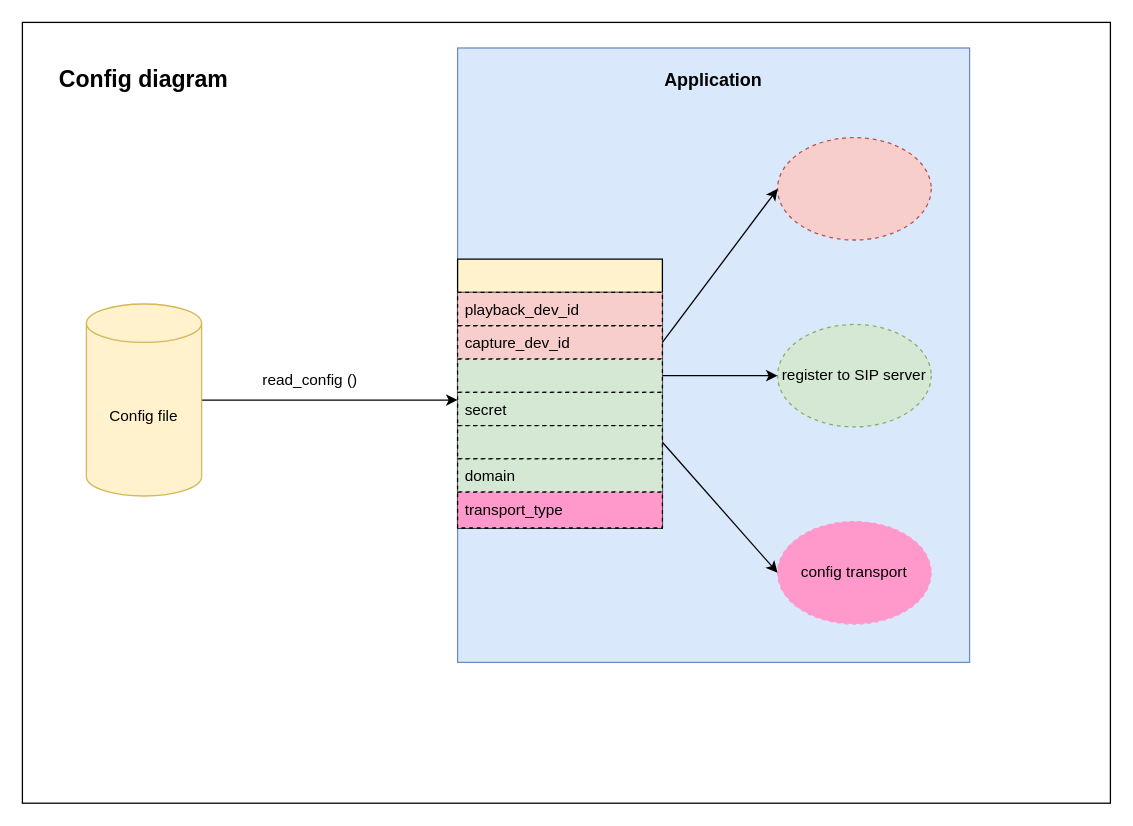
The diagram is 1133 pixels wide and 826 high, and some of its shapes have lost their labels. The box of each missing label's shape, as (x1, y1, x2, y2) in pixels:
create sound device: (776, 136, 931, 240)
sip_port: (456, 424, 662, 459)
struct config: (456, 258, 662, 528)
username: (456, 358, 662, 392)
